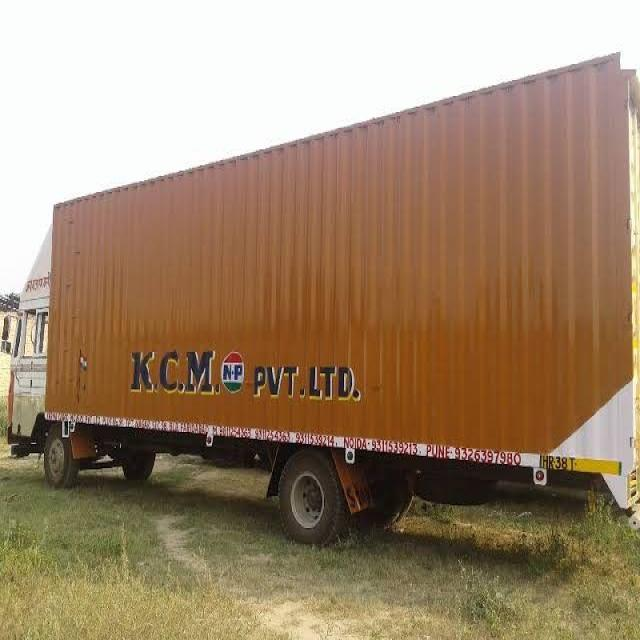truck: (9, 57, 640, 542)
